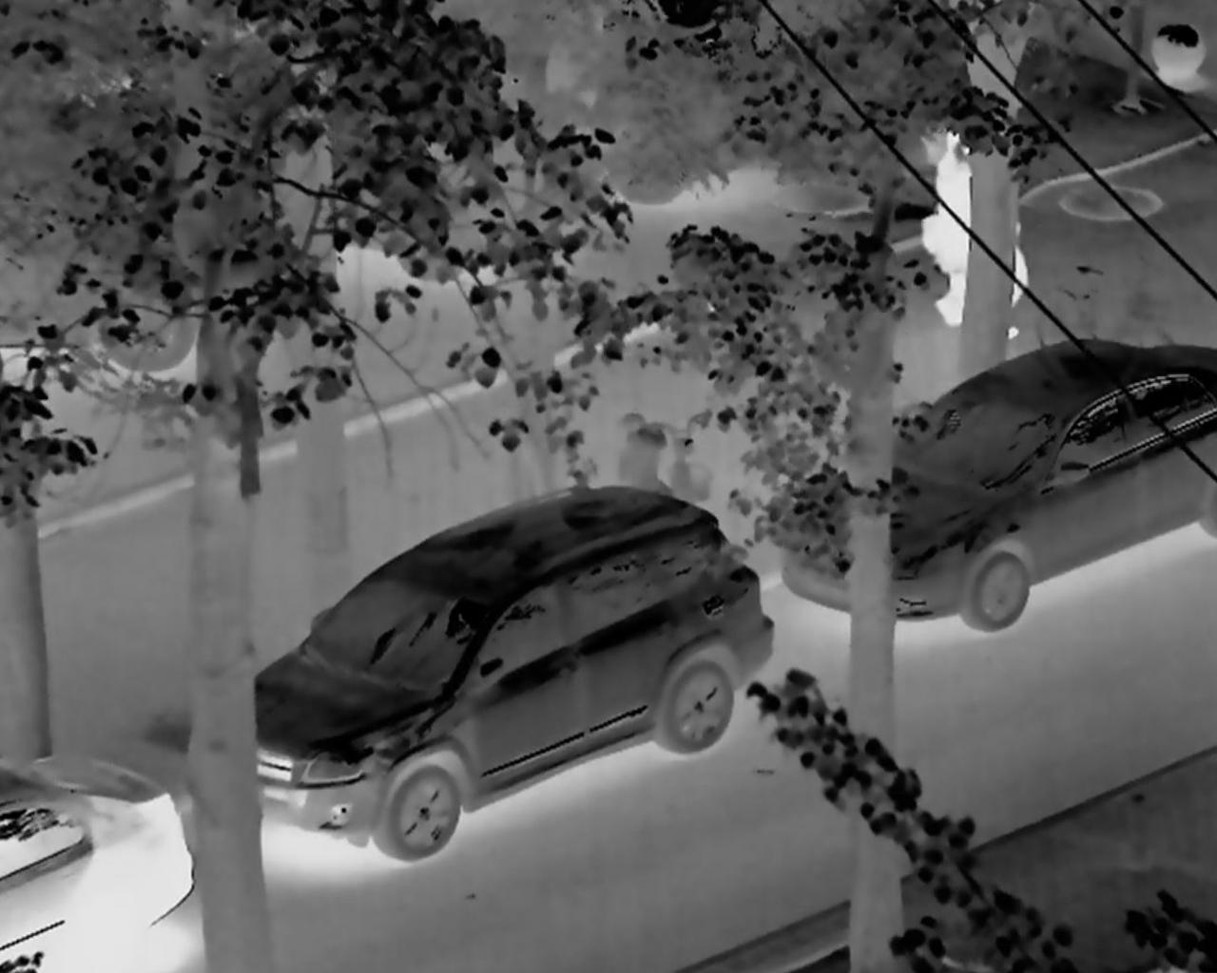person: (918, 106, 987, 334)
